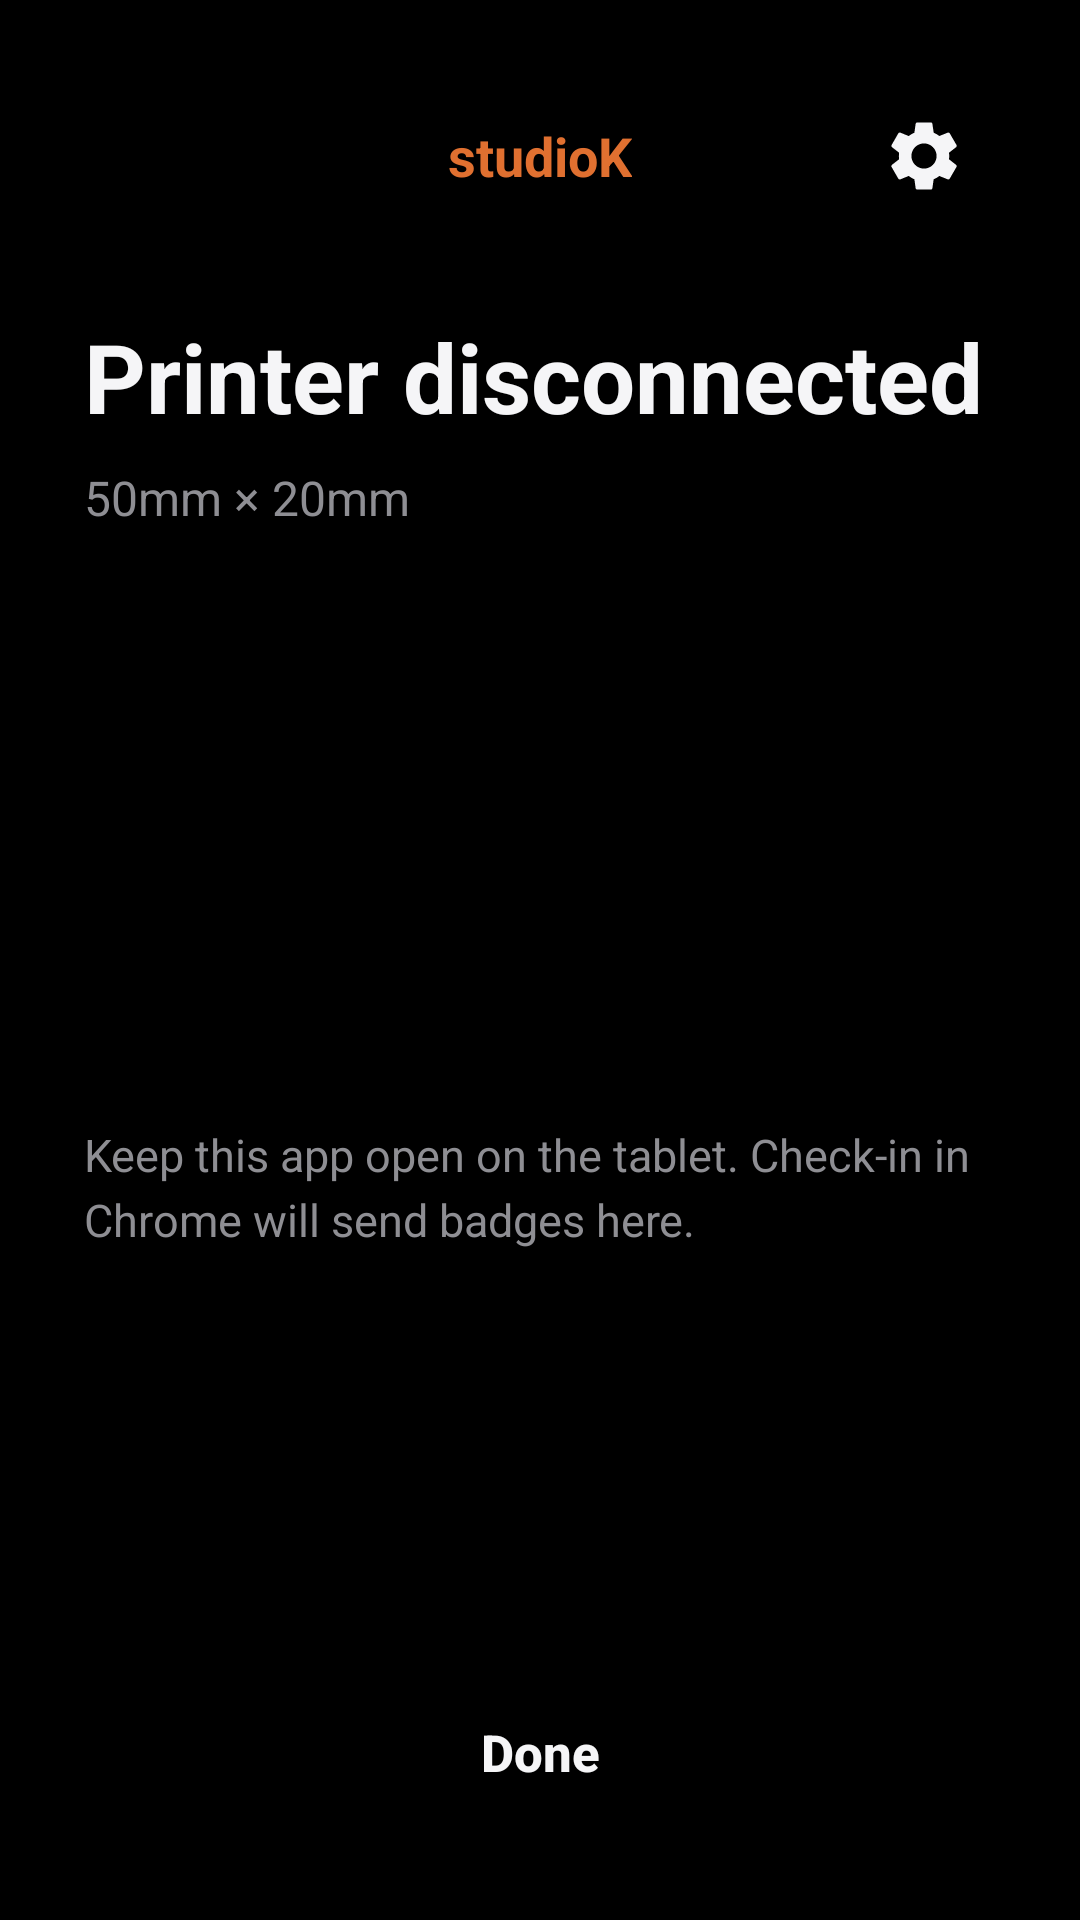

Point at icon controls on the screen. Image size 1080x1920, points as (x=x, y=y).
Settings: (x=924, y=156)
